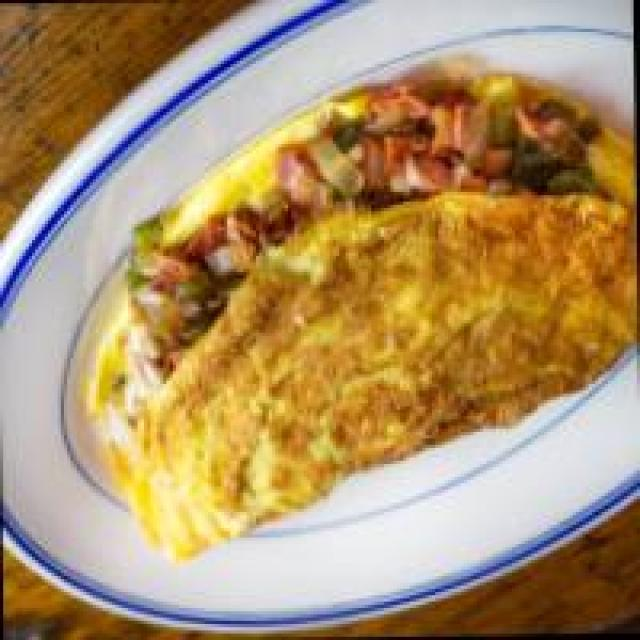telur_ayam_dadar: (86, 74, 640, 566)
